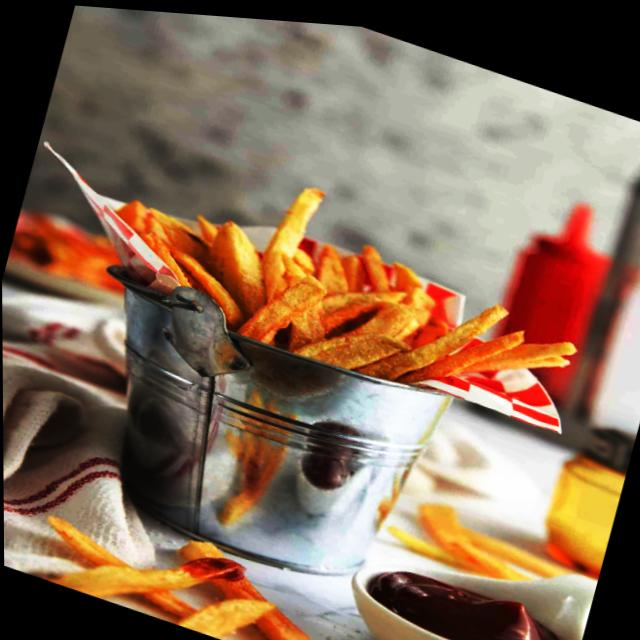french fries: (93, 120, 601, 445), (26, 485, 371, 640)
ketchup: (360, 550, 574, 640)
